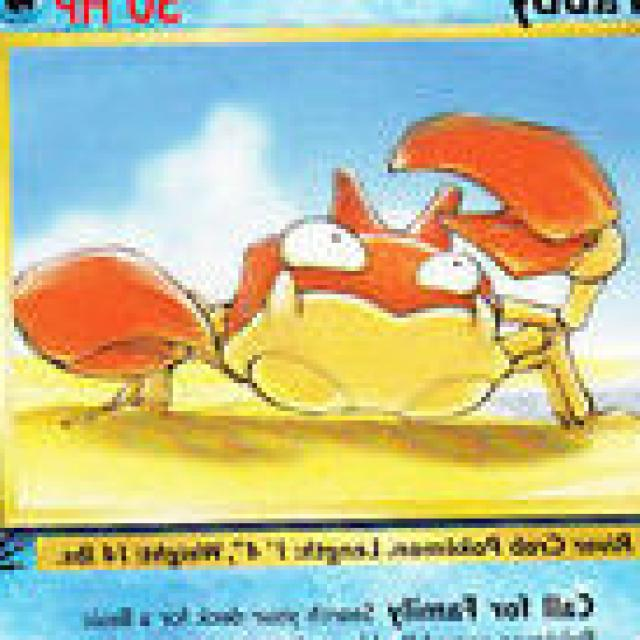Krabby: (85, 160, 598, 422)
